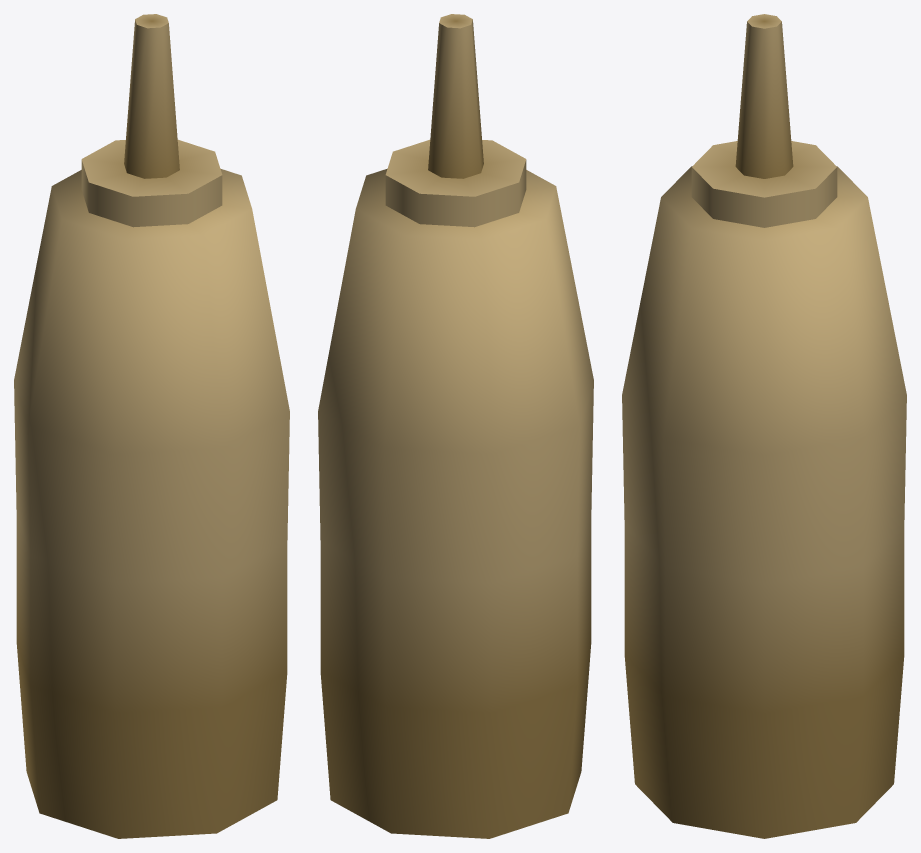
Rendered from H&J_Mayonesa.fbx.
The picture shows the model from 3 angles, left to right: view 1: azimuth 30°, elevation 25°; view 2: azimuth 150°, elevation 25°; view 3: azimuth 270°, elevation 25°; orthographic projection.
Visible parts, largest first — view 1: LAGS_PoteMayonesa; view 2: LAGS_PoteMayonesa; view 3: LAGS_PoteMayonesa.
Part boxes in pixels (bbox=[...]): LAGS_PoteMayonesa: bbox=[14, 14, 289, 838]; LAGS_PoteMayonesa: bbox=[318, 14, 593, 838]; LAGS_PoteMayonesa: bbox=[622, 14, 906, 838].
Bounding box in the file's own units: 8.8 × 25.99 × 8.8.
